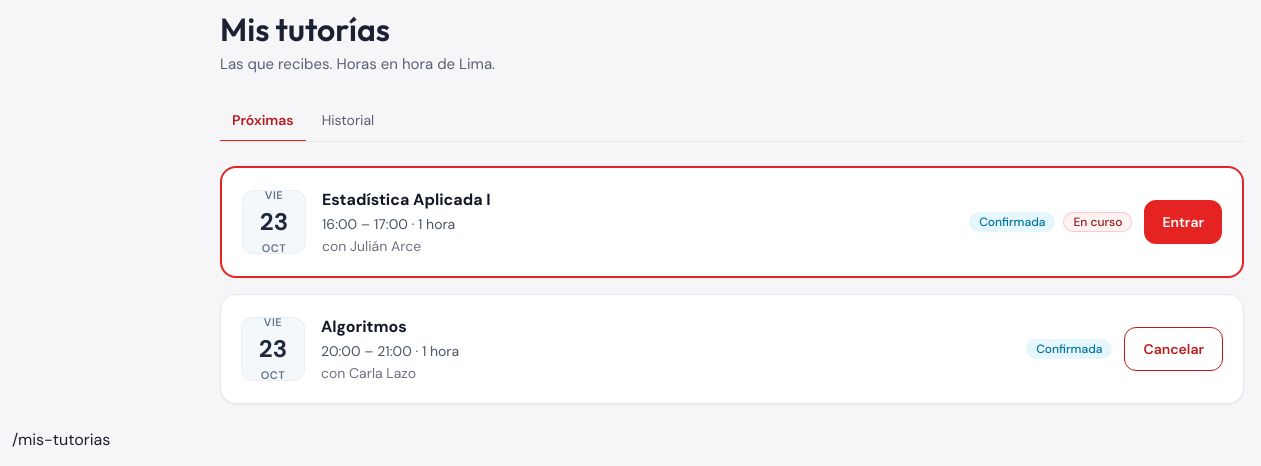
Test: FE-12 MyTutoringsPage › navigates to the session when entering a joinable tutoring
Click the button "Entrar".
click(1183, 222)  # box [1144,200,1222,244]
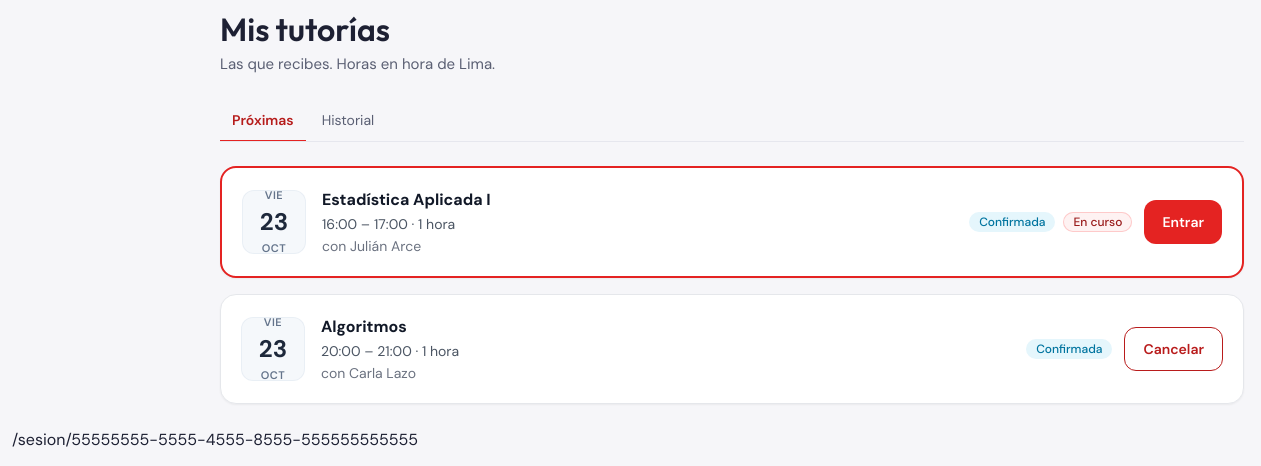
Now the text with test id "location" reads "/sesion/55555555-5555-4555-8555-555555555555", box [12,428,418,450]
